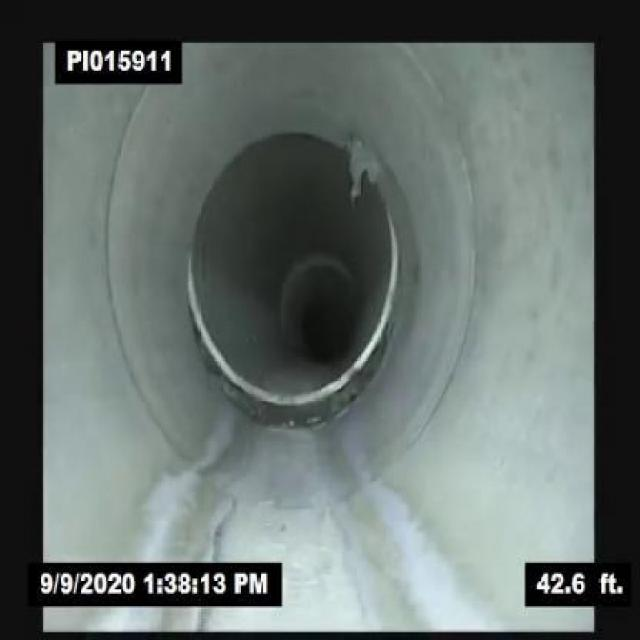Joint offset: (208, 383, 370, 435), (186, 251, 237, 378), (357, 269, 408, 382)
